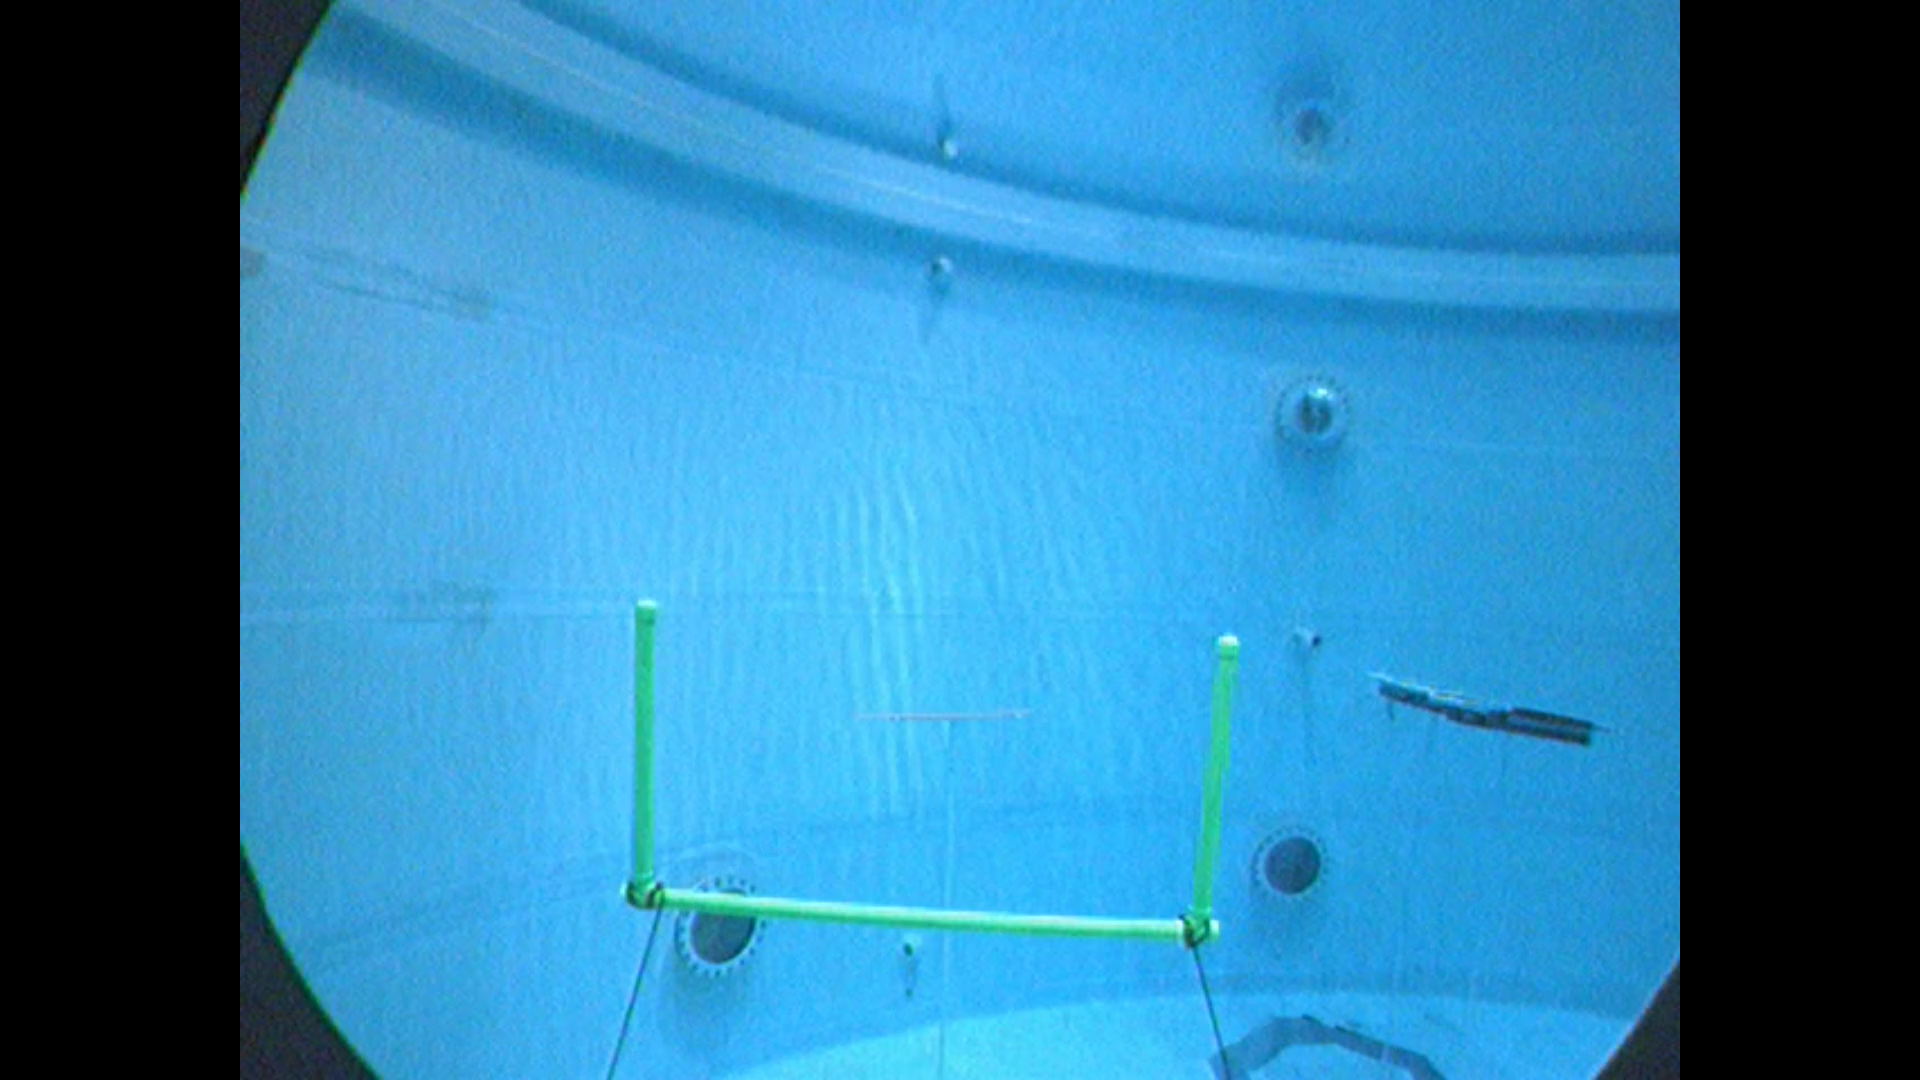gate: (616, 591, 1237, 953)
